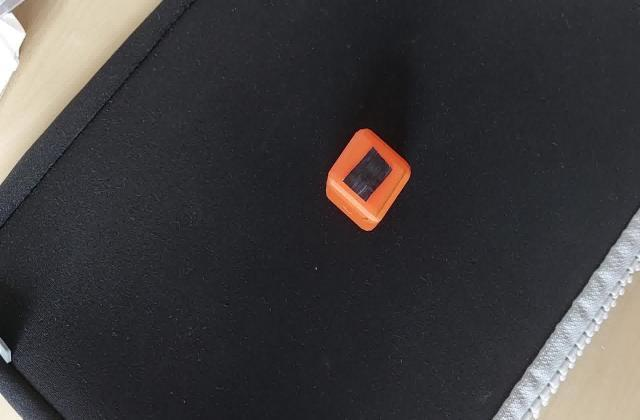black: (335, 147, 398, 202)
sticker: (320, 124, 412, 234)
